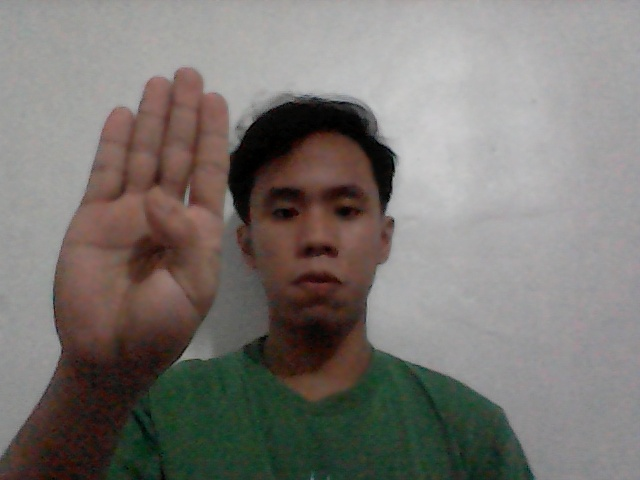B: (40, 60, 263, 395)
